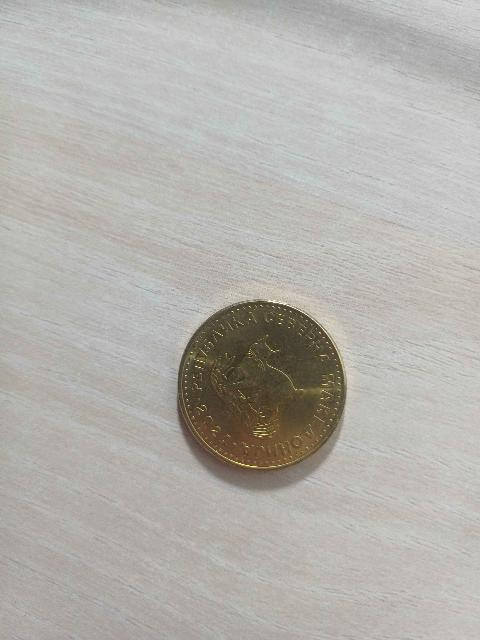coin: (179, 301, 346, 468)
